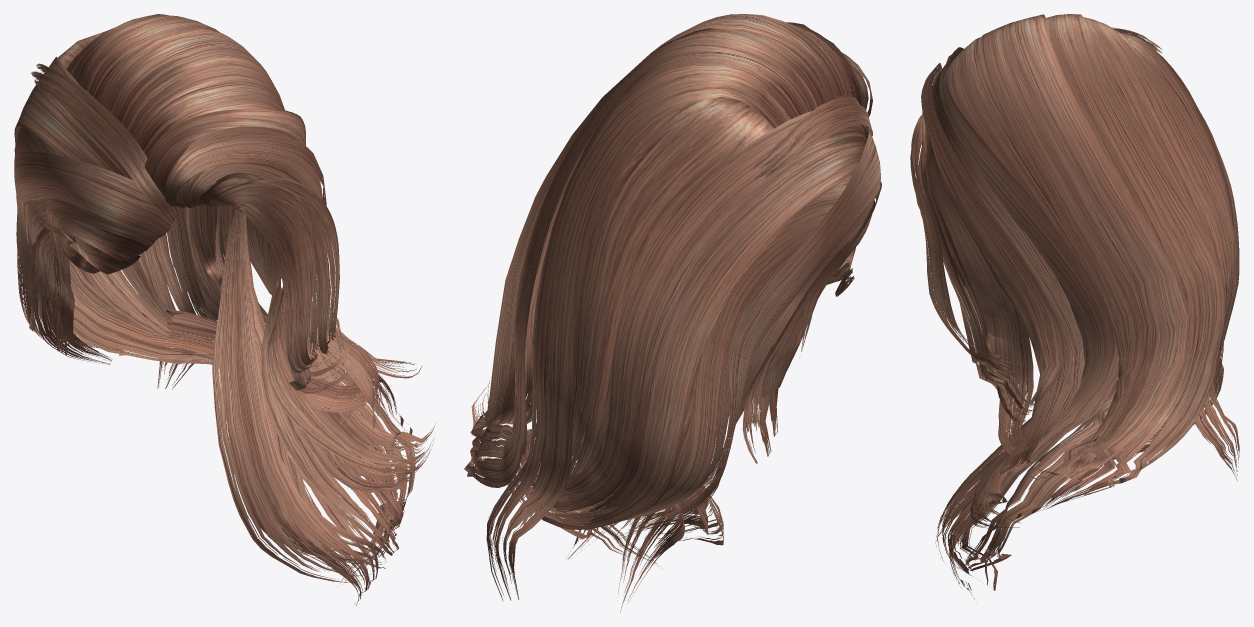
The model's file is mh_elvs_adrienne_hair.glb.
3 renders of one model, left to right at view 1: azimuth 30°, elevation 25°; view 2: azimuth 150°, elevation 25°; view 3: azimuth 270°, elevation 25°, orthographic. The views are drawn at different scales.
Visible parts, largest first — view 1: mh_elvs_adrienne_hair; view 2: mh_elvs_adrienne_hair; view 3: mh_elvs_adrienne_hair.
Part boxes in pixels (bbox=[...]): mh_elvs_adrienne_hair: bbox=[14, 14, 435, 605]; mh_elvs_adrienne_hair: bbox=[464, 14, 881, 612]; mh_elvs_adrienne_hair: bbox=[910, 14, 1239, 599].
Size of the model in its own units: 0.3396 by 0.5202 by 0.2969.
Materials: 1 (1 with a texture image).
